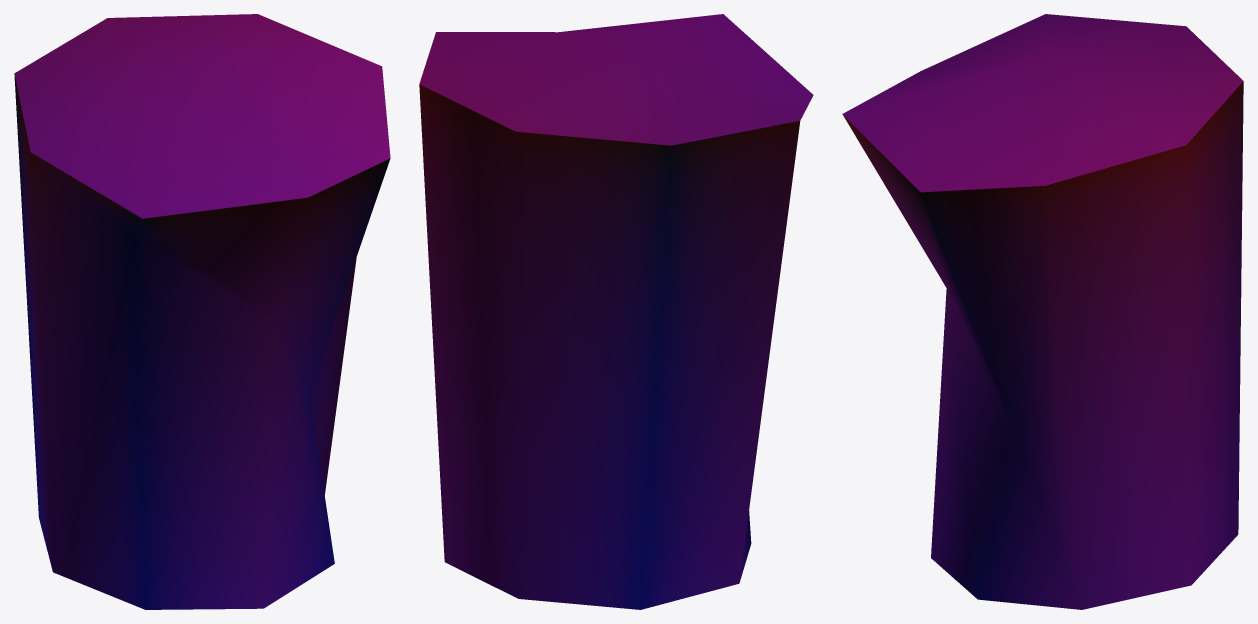
3 views of the same model, side by side, from view 1: azimuth 30°, elevation 25°; view 2: azimuth 150°, elevation 25°; view 3: azimuth 270°, elevation 25° (orthographic). The views are drawn at different scales.
Visible parts, largest first — view 1: part; view 2: part; view 3: part.
Boxes of the visible parts, <box> form: part: <box>14,14,390,609</box>; part: <box>419,14,813,609</box>; part: <box>842,14,1243,609</box>.
Size of the model in its own units: 10062 by 13674 by 9933.
